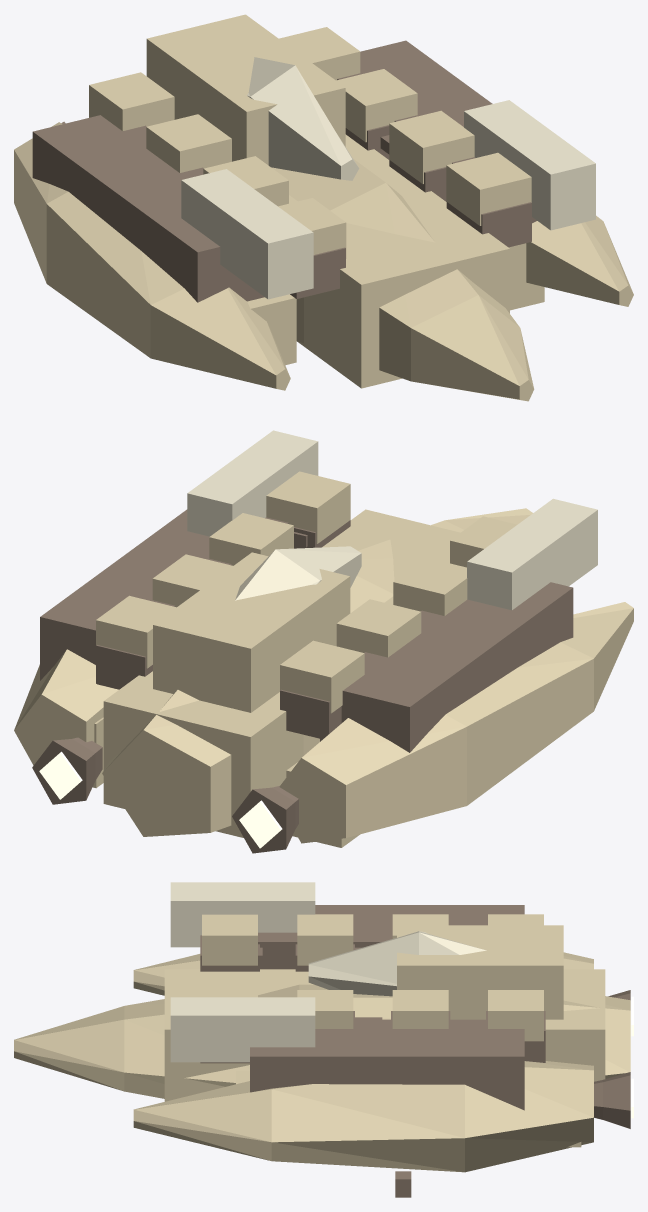
3 views of the same model, one above another, from view 1: azimuth 30°, elevation 25°; view 2: azimuth 150°, elevation 25°; view 3: azimuth 270°, elevation 25° (orthographic). The views are drawn at different scales.
Size of the model in its own units: 14.62 by 6.93 by 20.83.
